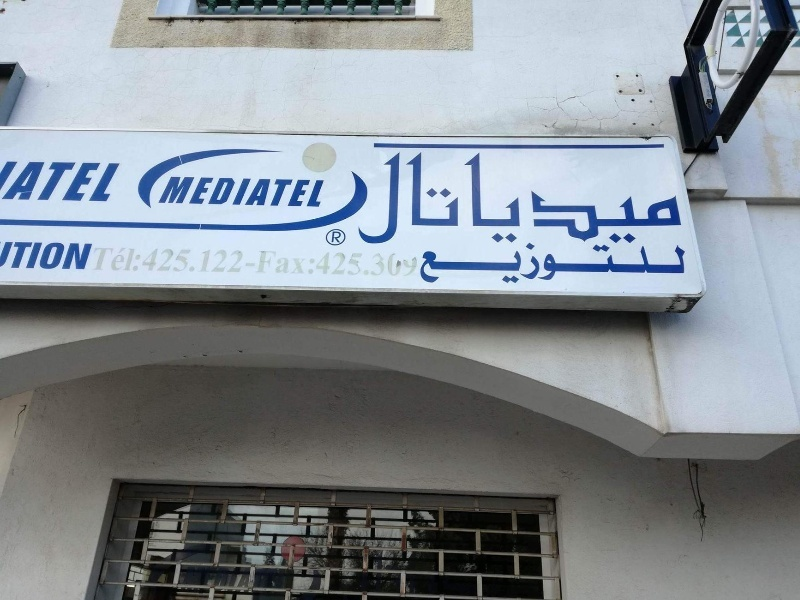text: (385, 151, 400, 245), (401, 151, 416, 245), (417, 151, 432, 245), (433, 151, 448, 245), (449, 151, 464, 245), (465, 151, 480, 245), (481, 151, 496, 245), (497, 151, 512, 245), (513, 151, 528, 245), (529, 151, 544, 245), (545, 151, 560, 245), (561, 151, 576, 245), (577, 151, 592, 245), (593, 151, 608, 245), (609, 151, 624, 245), (625, 151, 640, 245), (641, 151, 656, 245), (657, 151, 672, 245), (673, 151, 687, 245), (433, 241, 448, 287), (449, 241, 464, 287), (465, 241, 480, 287), (481, 241, 496, 287), (497, 241, 512, 287), (513, 241, 528, 287), (529, 241, 544, 287), (545, 241, 560, 287), (561, 241, 576, 287), (577, 241, 592, 287), (593, 241, 608, 287), (609, 241, 624, 287), (625, 241, 640, 287), (641, 241, 656, 287), (657, 241, 672, 287), (673, 241, 688, 287), (33, 161, 48, 204), (49, 161, 64, 204), (65, 161, 80, 204), (81, 161, 96, 204), (97, 161, 112, 204), (177, 176, 192, 209), (193, 176, 208, 209), (209, 176, 224, 209), (225, 176, 240, 209), (241, 176, 256, 209), (257, 176, 272, 209), (273, 176, 288, 209), (289, 176, 304, 209), (305, 176, 320, 209), (97, 244, 112, 276), (113, 244, 128, 276), (129, 244, 144, 276), (17, 241, 32, 271), (33, 241, 48, 271), (49, 241, 64, 271), (65, 241, 80, 271), (193, 565, 208, 595), (209, 565, 224, 595), (225, 565, 240, 595), (257, 248, 272, 276), (273, 248, 288, 276), (289, 248, 304, 276), (321, 249, 336, 277), (337, 249, 352, 277), (353, 249, 368, 277), (369, 249, 384, 277), (385, 249, 400, 277), (401, 249, 416, 277), (145, 248, 160, 275), (161, 248, 176, 275), (177, 248, 192, 275), (193, 248, 208, 275), (209, 248, 224, 275), (225, 248, 240, 275), (81, 241, 94, 271), (113, 161, 122, 204), (424, 241, 432, 287), (308, 249, 320, 277), (241, 565, 252, 595), (248, 248, 256, 276), (170, 176, 176, 209), (321, 176, 327, 209), (241, 248, 248, 275), (29, 161, 32, 204), (188, 565, 192, 595), (417, 249, 421, 277), (93, 244, 96, 276), (337, 231, 342, 243), (14, 241, 16, 271), (305, 248, 307, 276), (332, 231, 336, 243)
